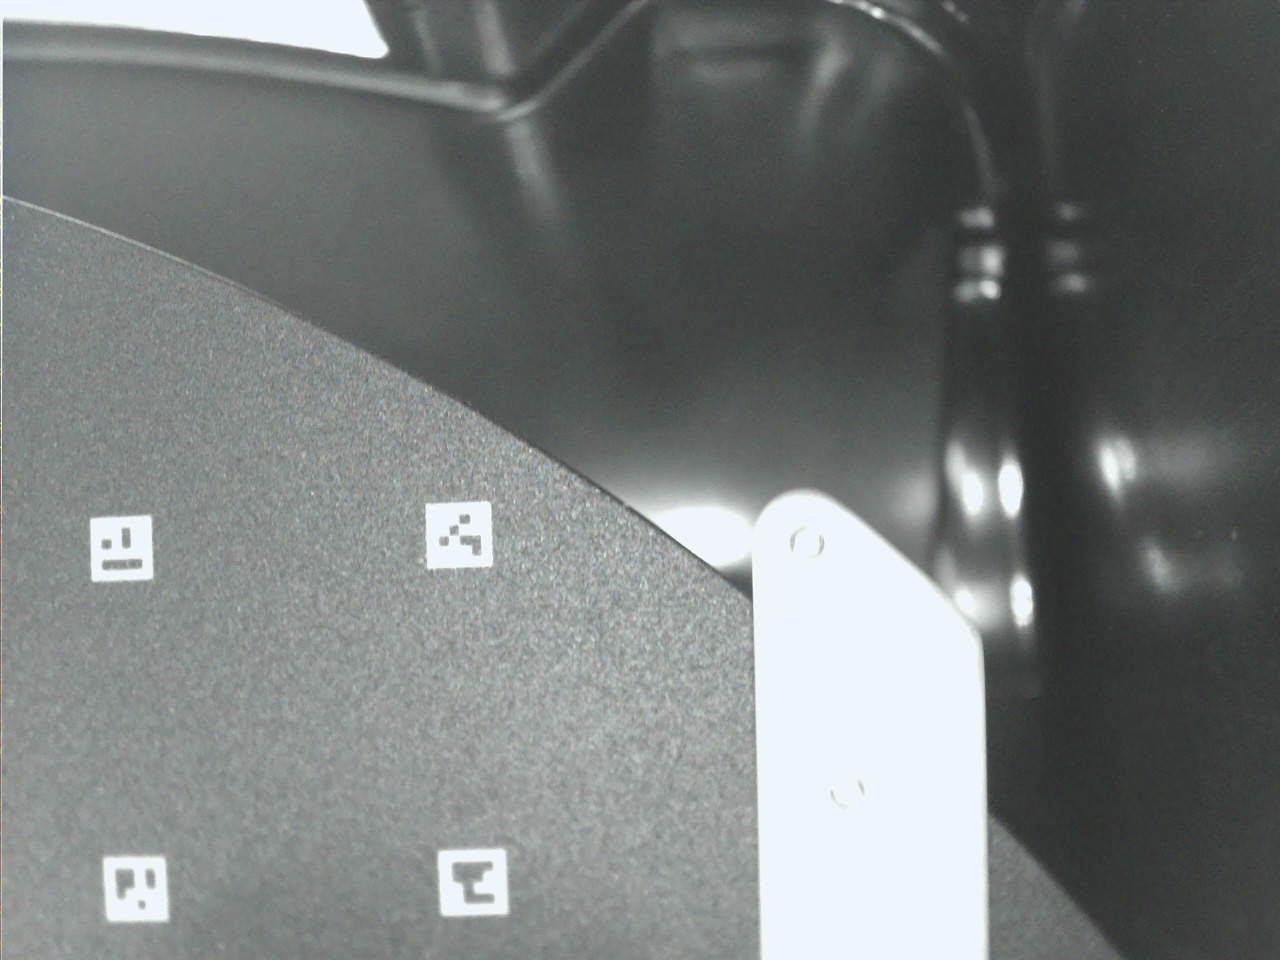forktip: (735, 470, 1010, 960)
